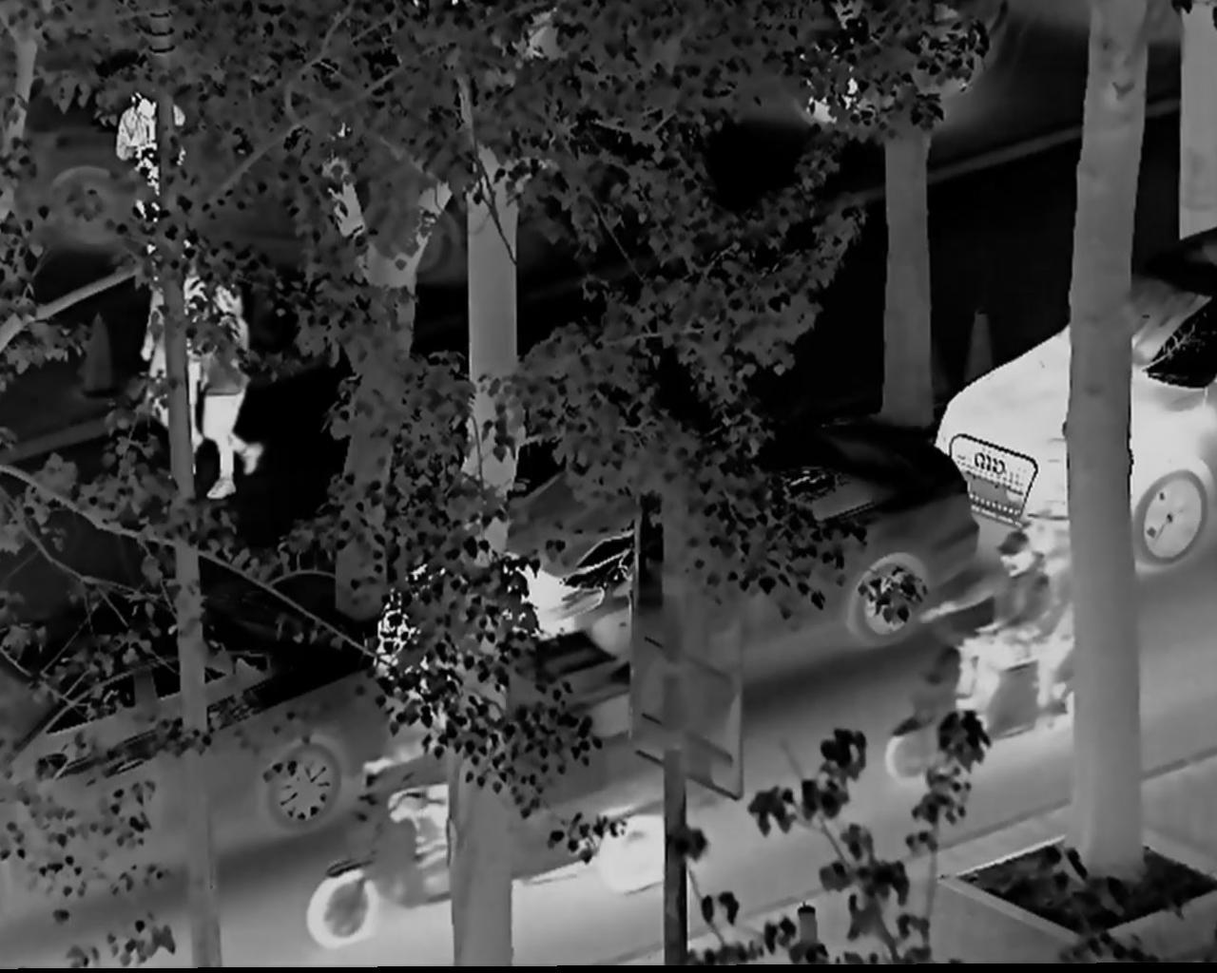person: (944, 532, 1068, 712), (189, 281, 270, 504), (134, 255, 204, 471), (117, 92, 182, 250)
